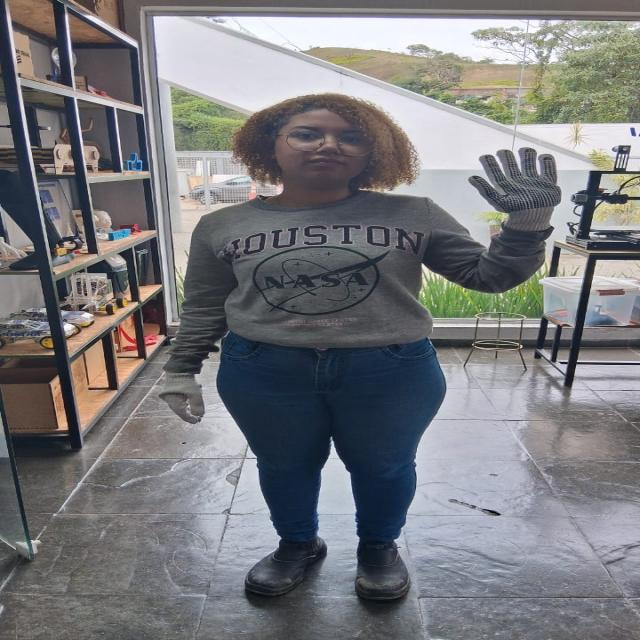BOTA: (239, 529, 330, 596), (353, 542, 406, 602)
LUVA: (467, 148, 567, 228), (154, 369, 205, 428)
